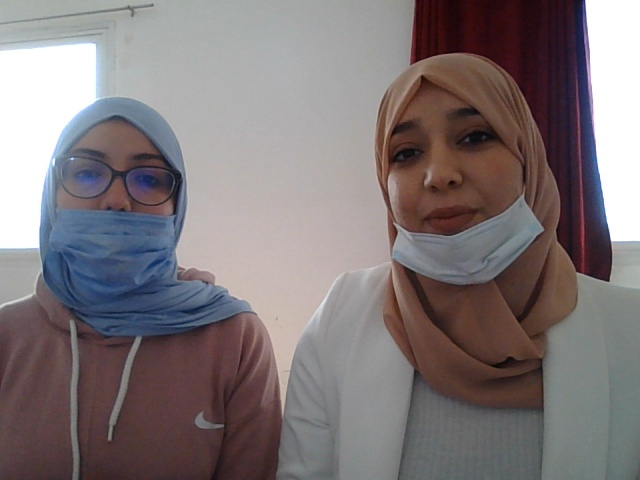mask_weared_incorrect: (349, 61, 567, 293), (38, 92, 196, 300)
